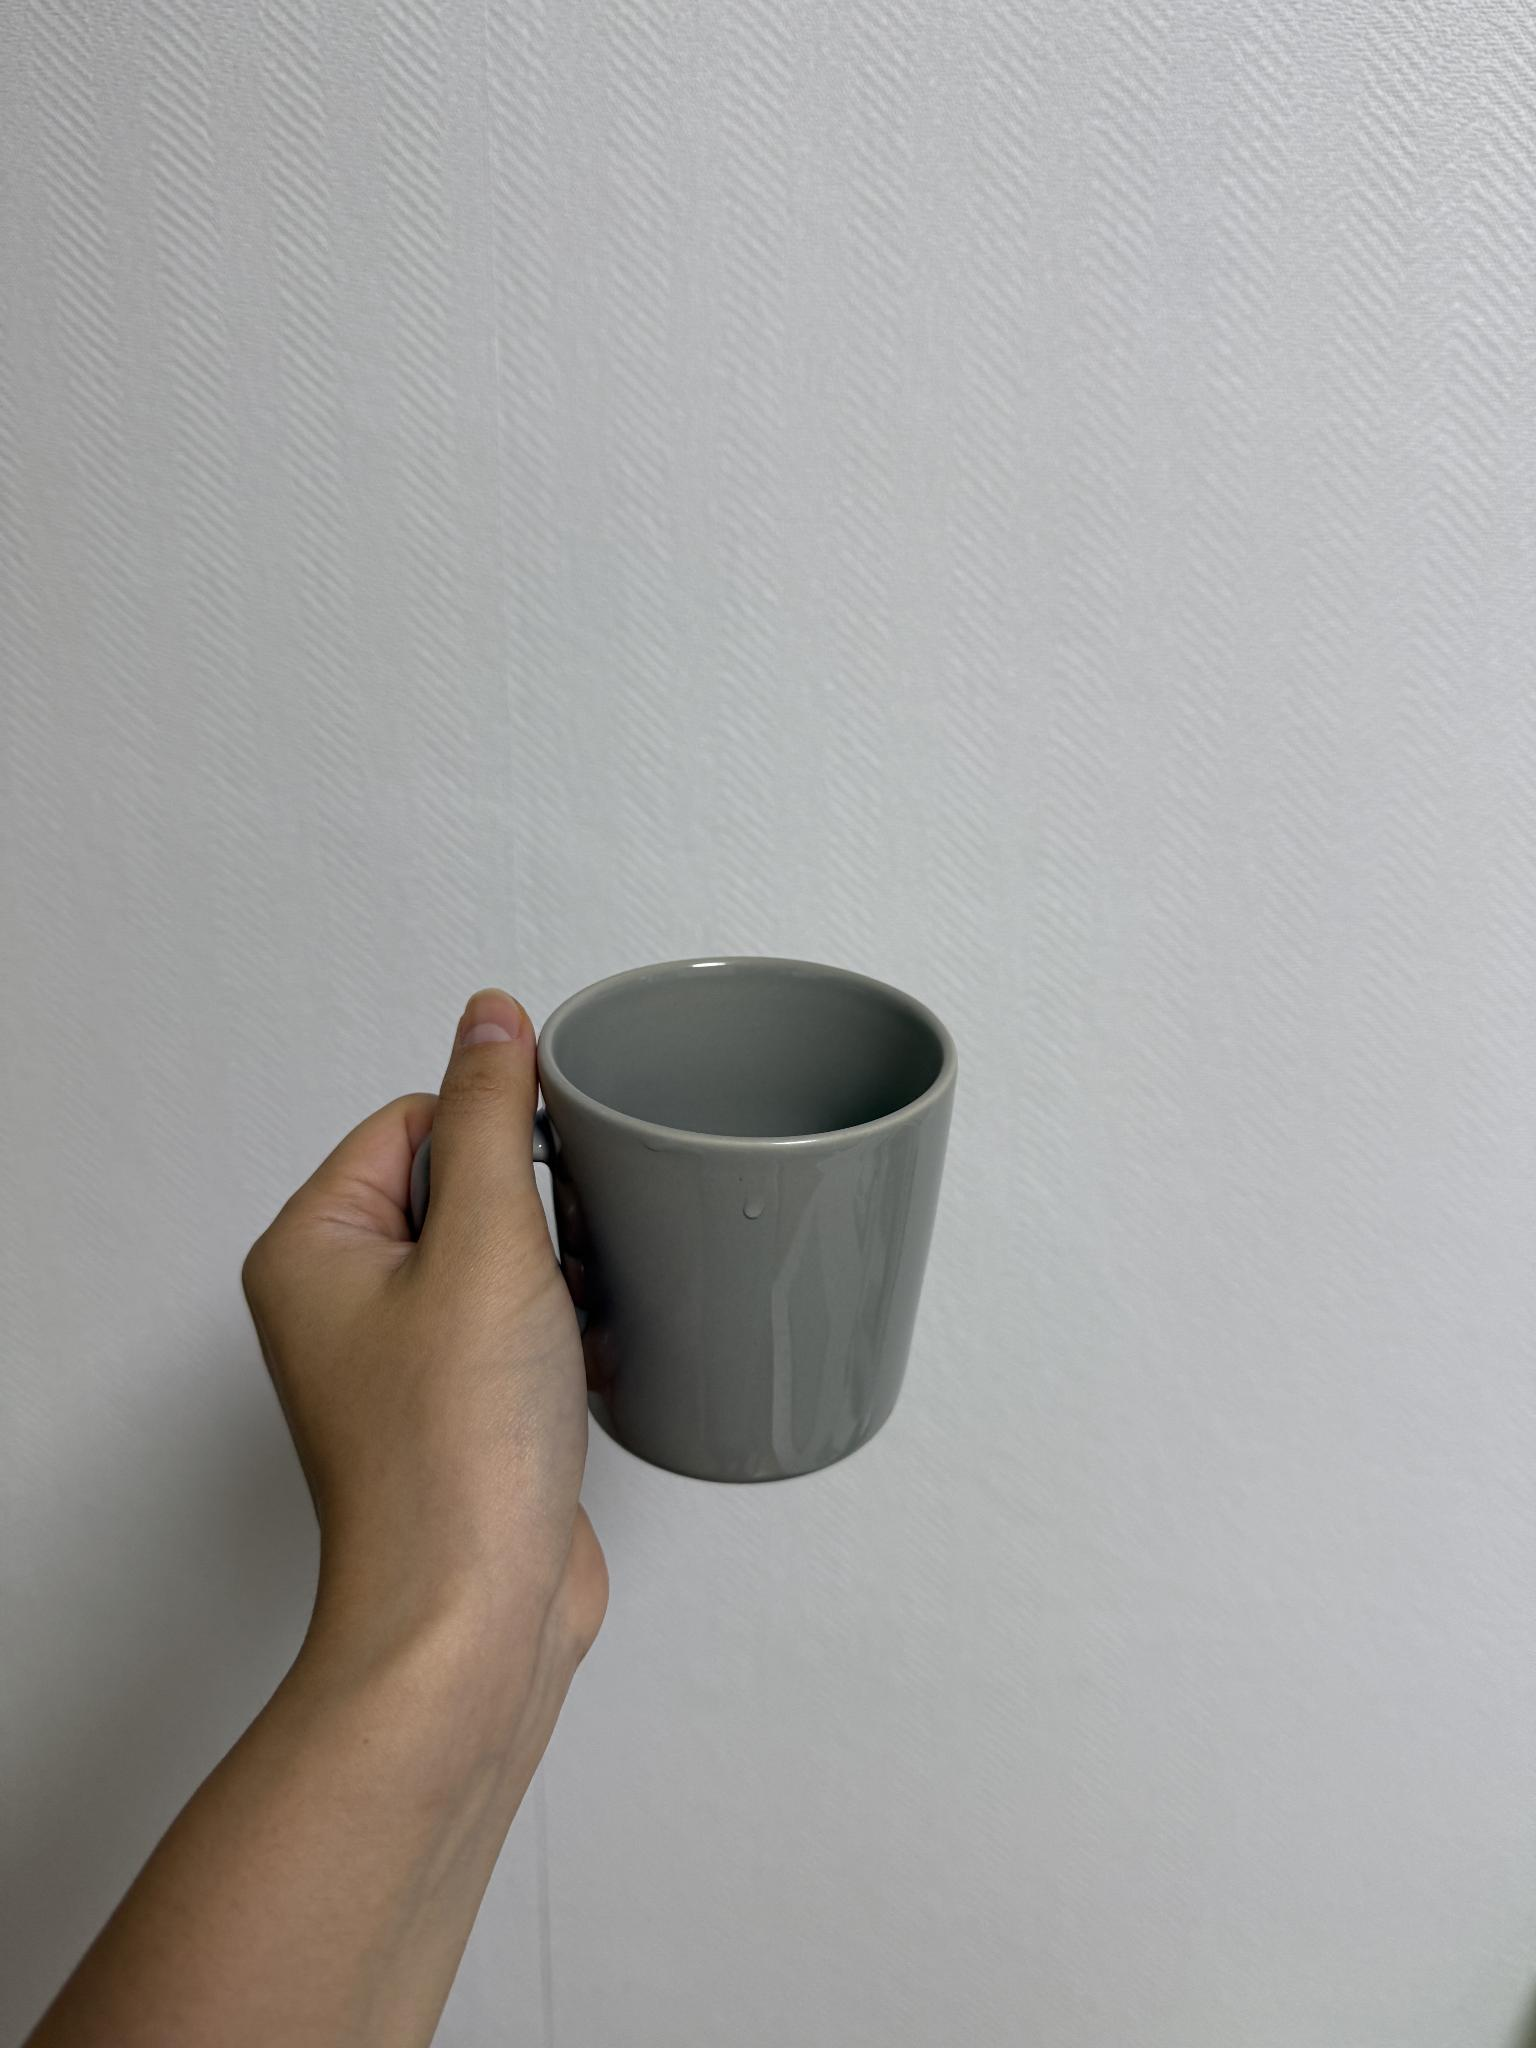cup: (226, 940, 977, 1784)
